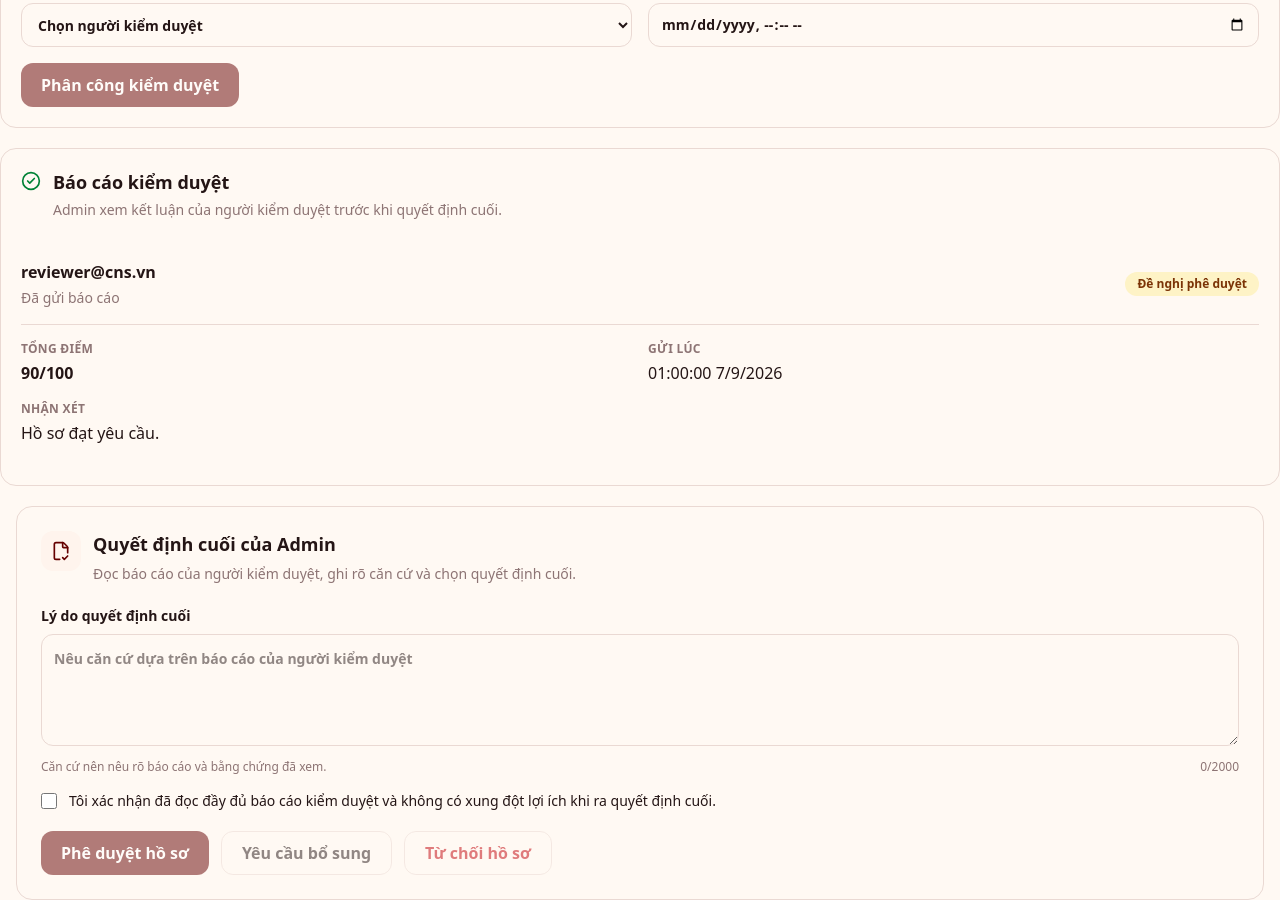
Test: ReviewAssignmentQueue › allows final admin approval only after reviewer reports are complete
(page scrolled)
In the text box labelled "Lý do quyết định cuối": {"x": 640, "y": 690} [41,634,1239,746], type "Đồng ý với báo cáo kiểm duyệt"
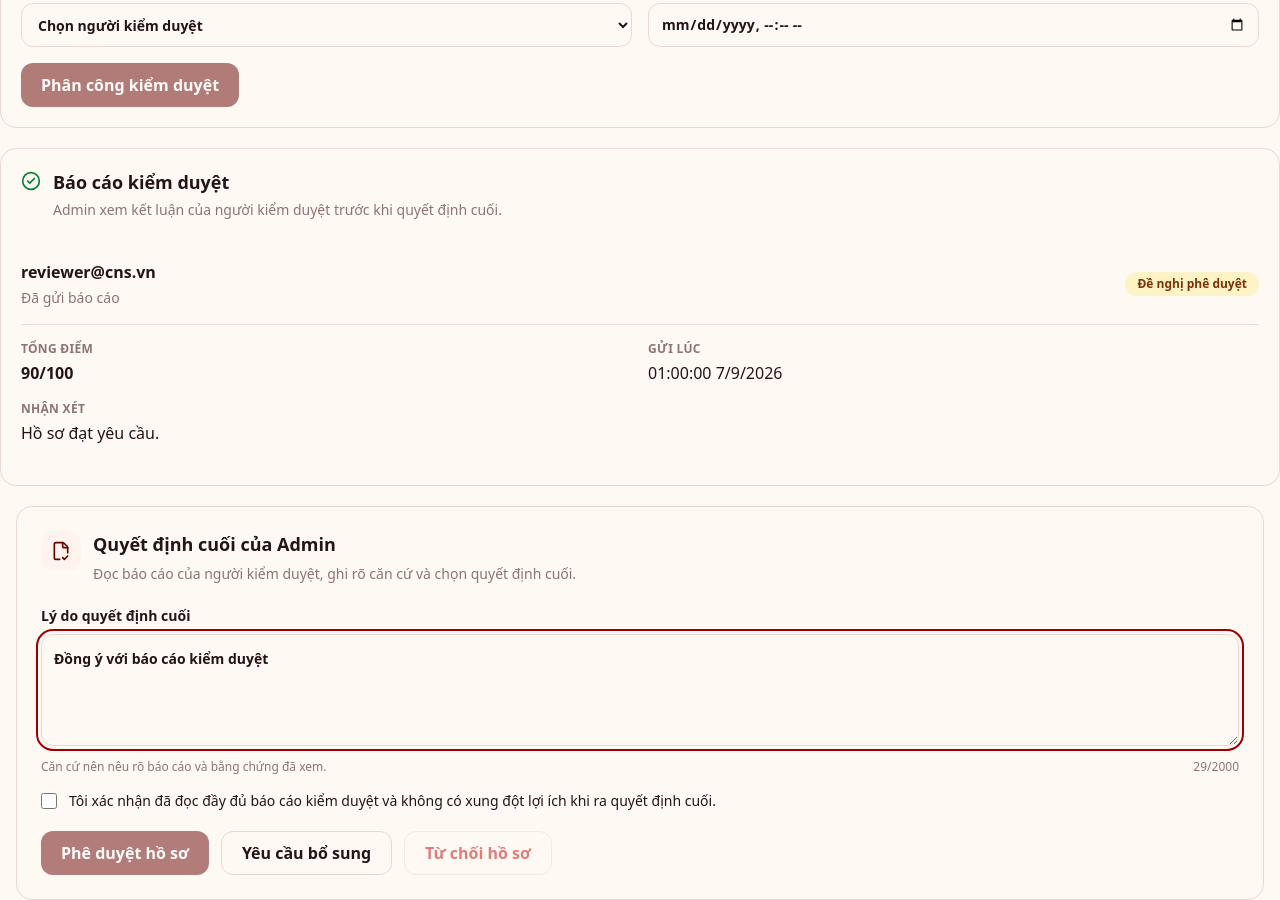
Click the checkbox labelled "không có xung đột lợi ích": {"x": 49, "y": 801} [41,793,57,809]
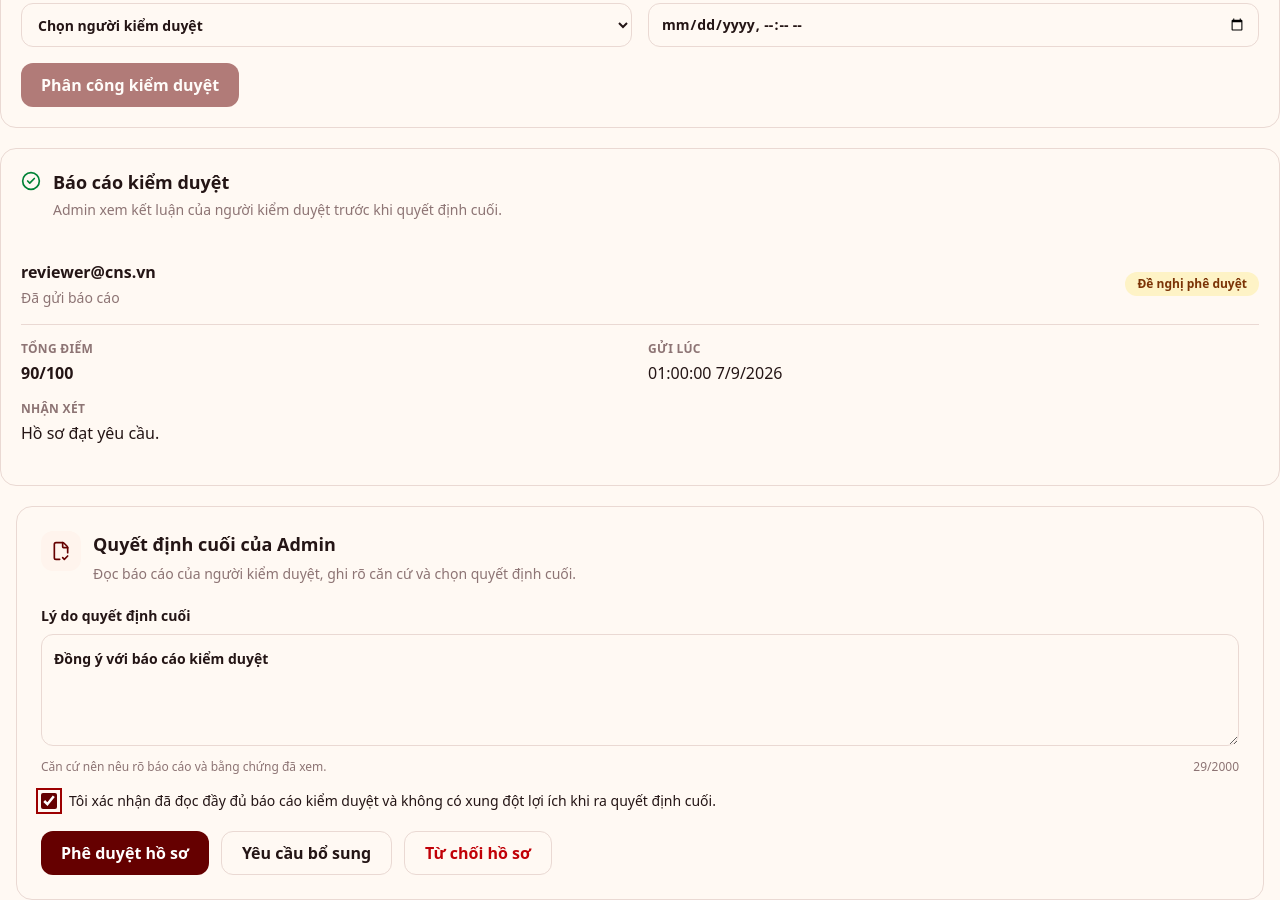
Click the button "Phê duyệt hồ sơ": {"x": 125, "y": 853} [41,831,209,875]
(page scrolled)
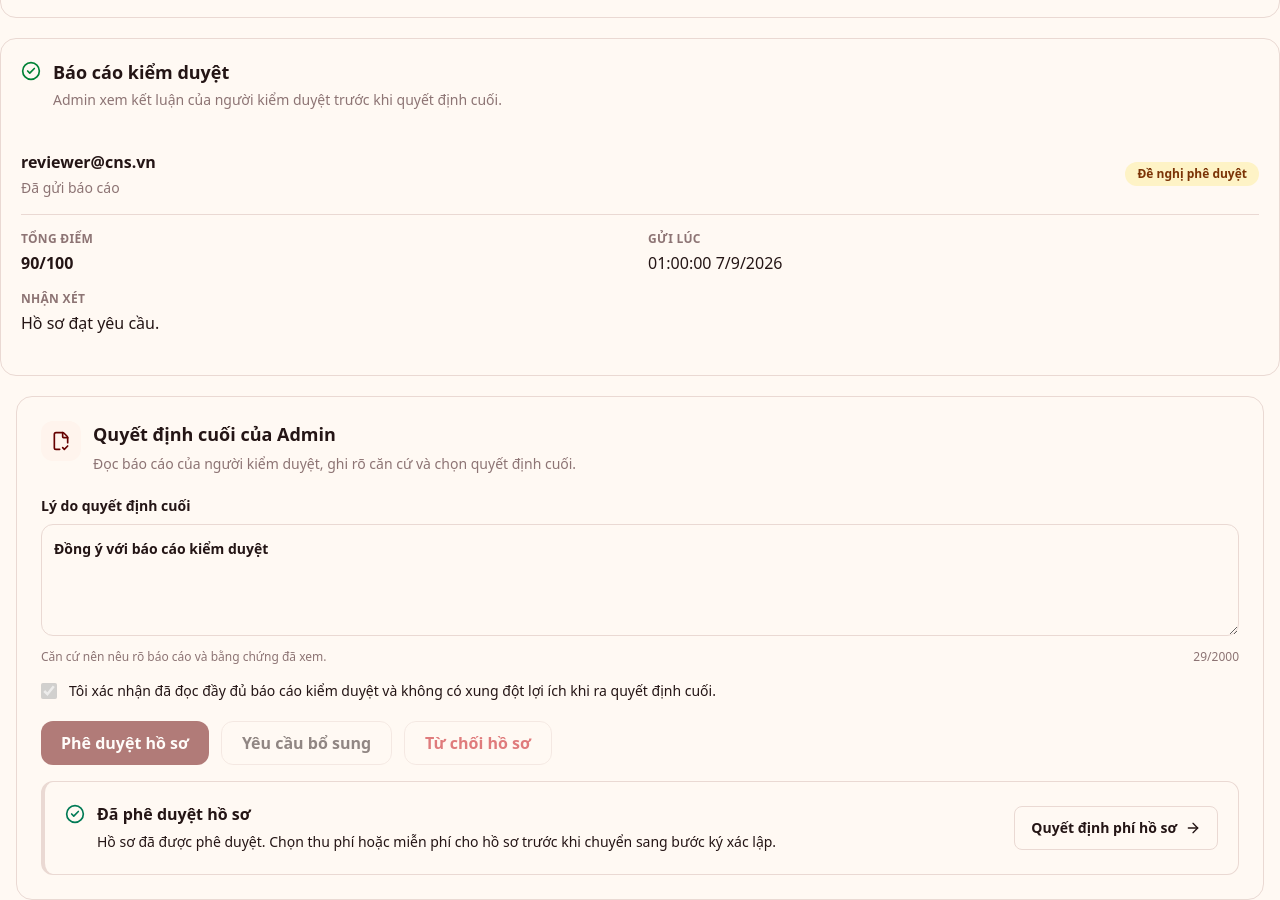
Expected: the heading "Đã phê duyệt hồ sơ" is shown, [97,803,251,825]
